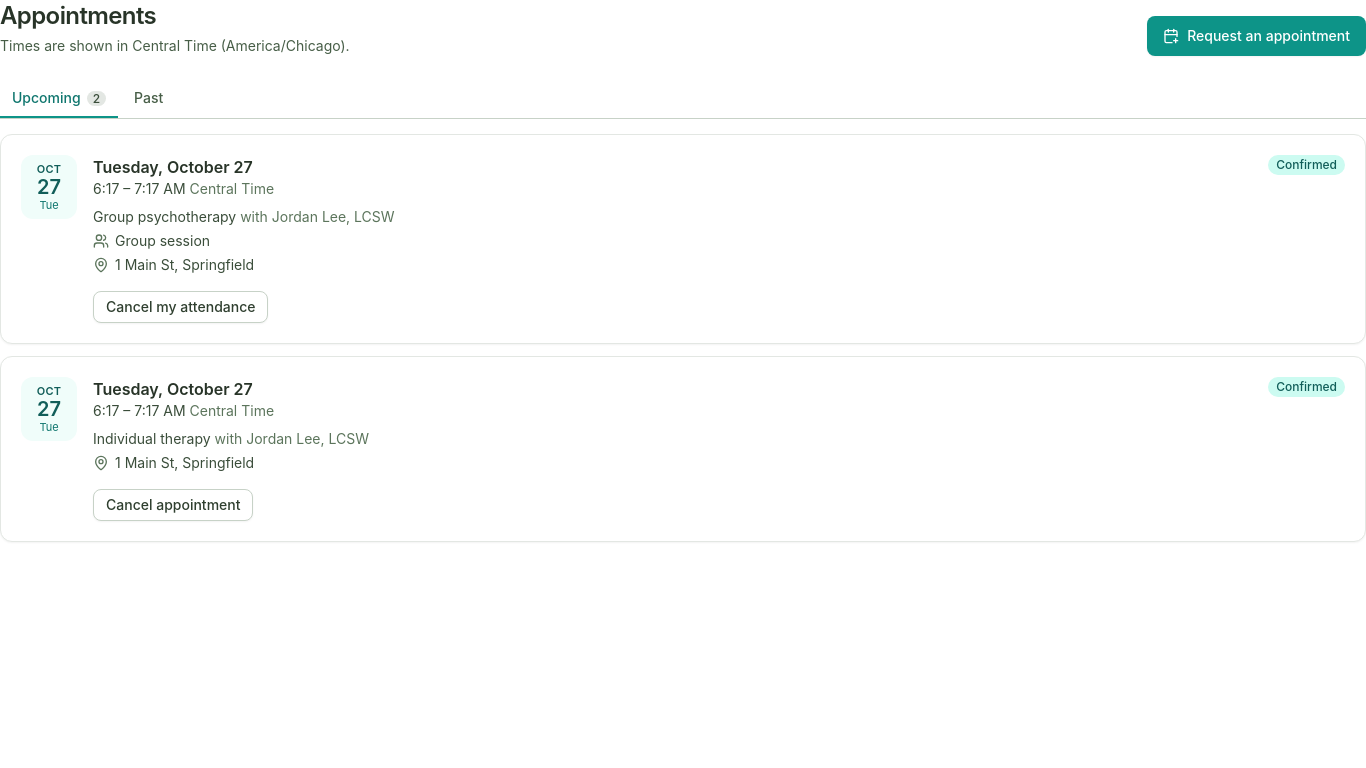
ClientAppointmentsPage › labels group sessions and cancels an individual one as the appointment
The image size is (1366, 768).
Expected: the text "Group session" is shown, [93,232,210,249]
Expected: the number of buttons "Cancel my attendance" is 1, [93,291,268,323]
Click the button "Cancel appointment": (173, 505) [93,489,254,521]
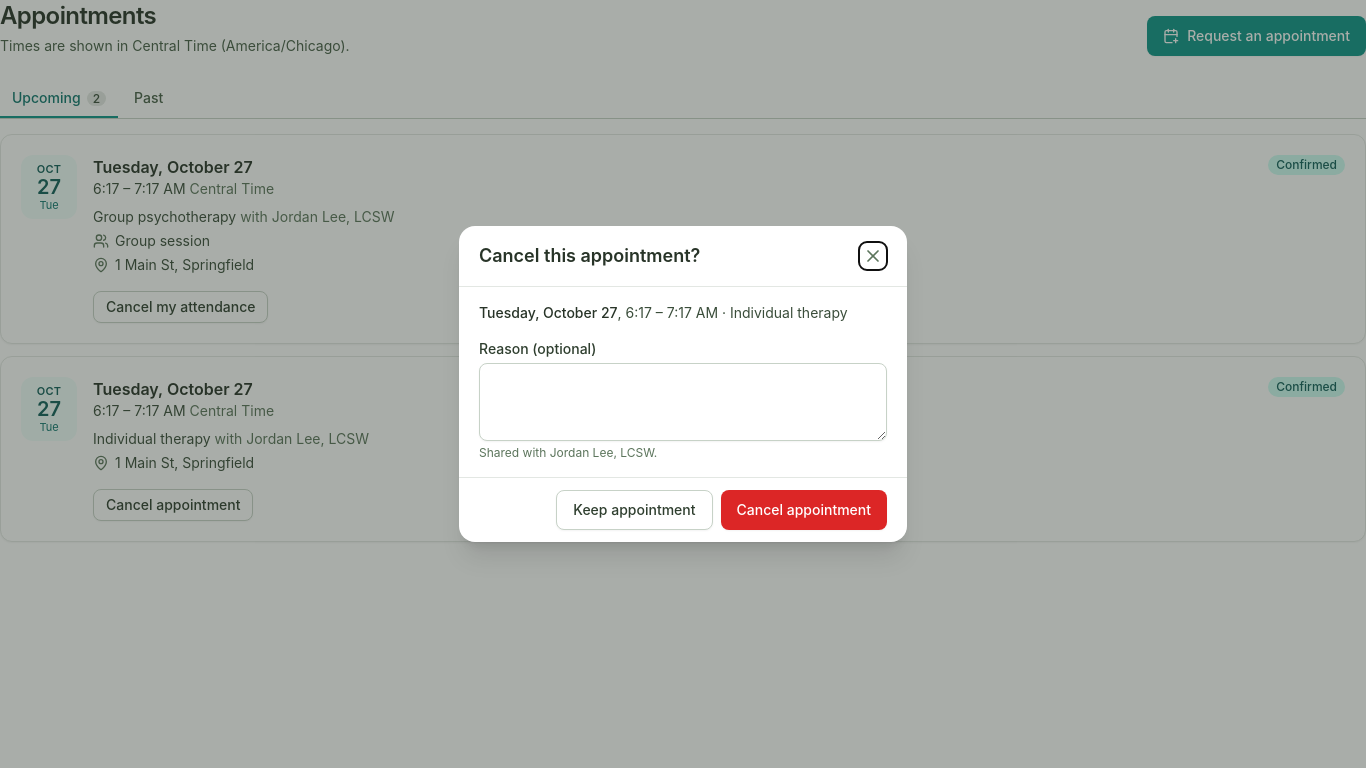
Expected: the text "Shared with Jordan Lee, LCSW." is shown, [479,445,657,460]
